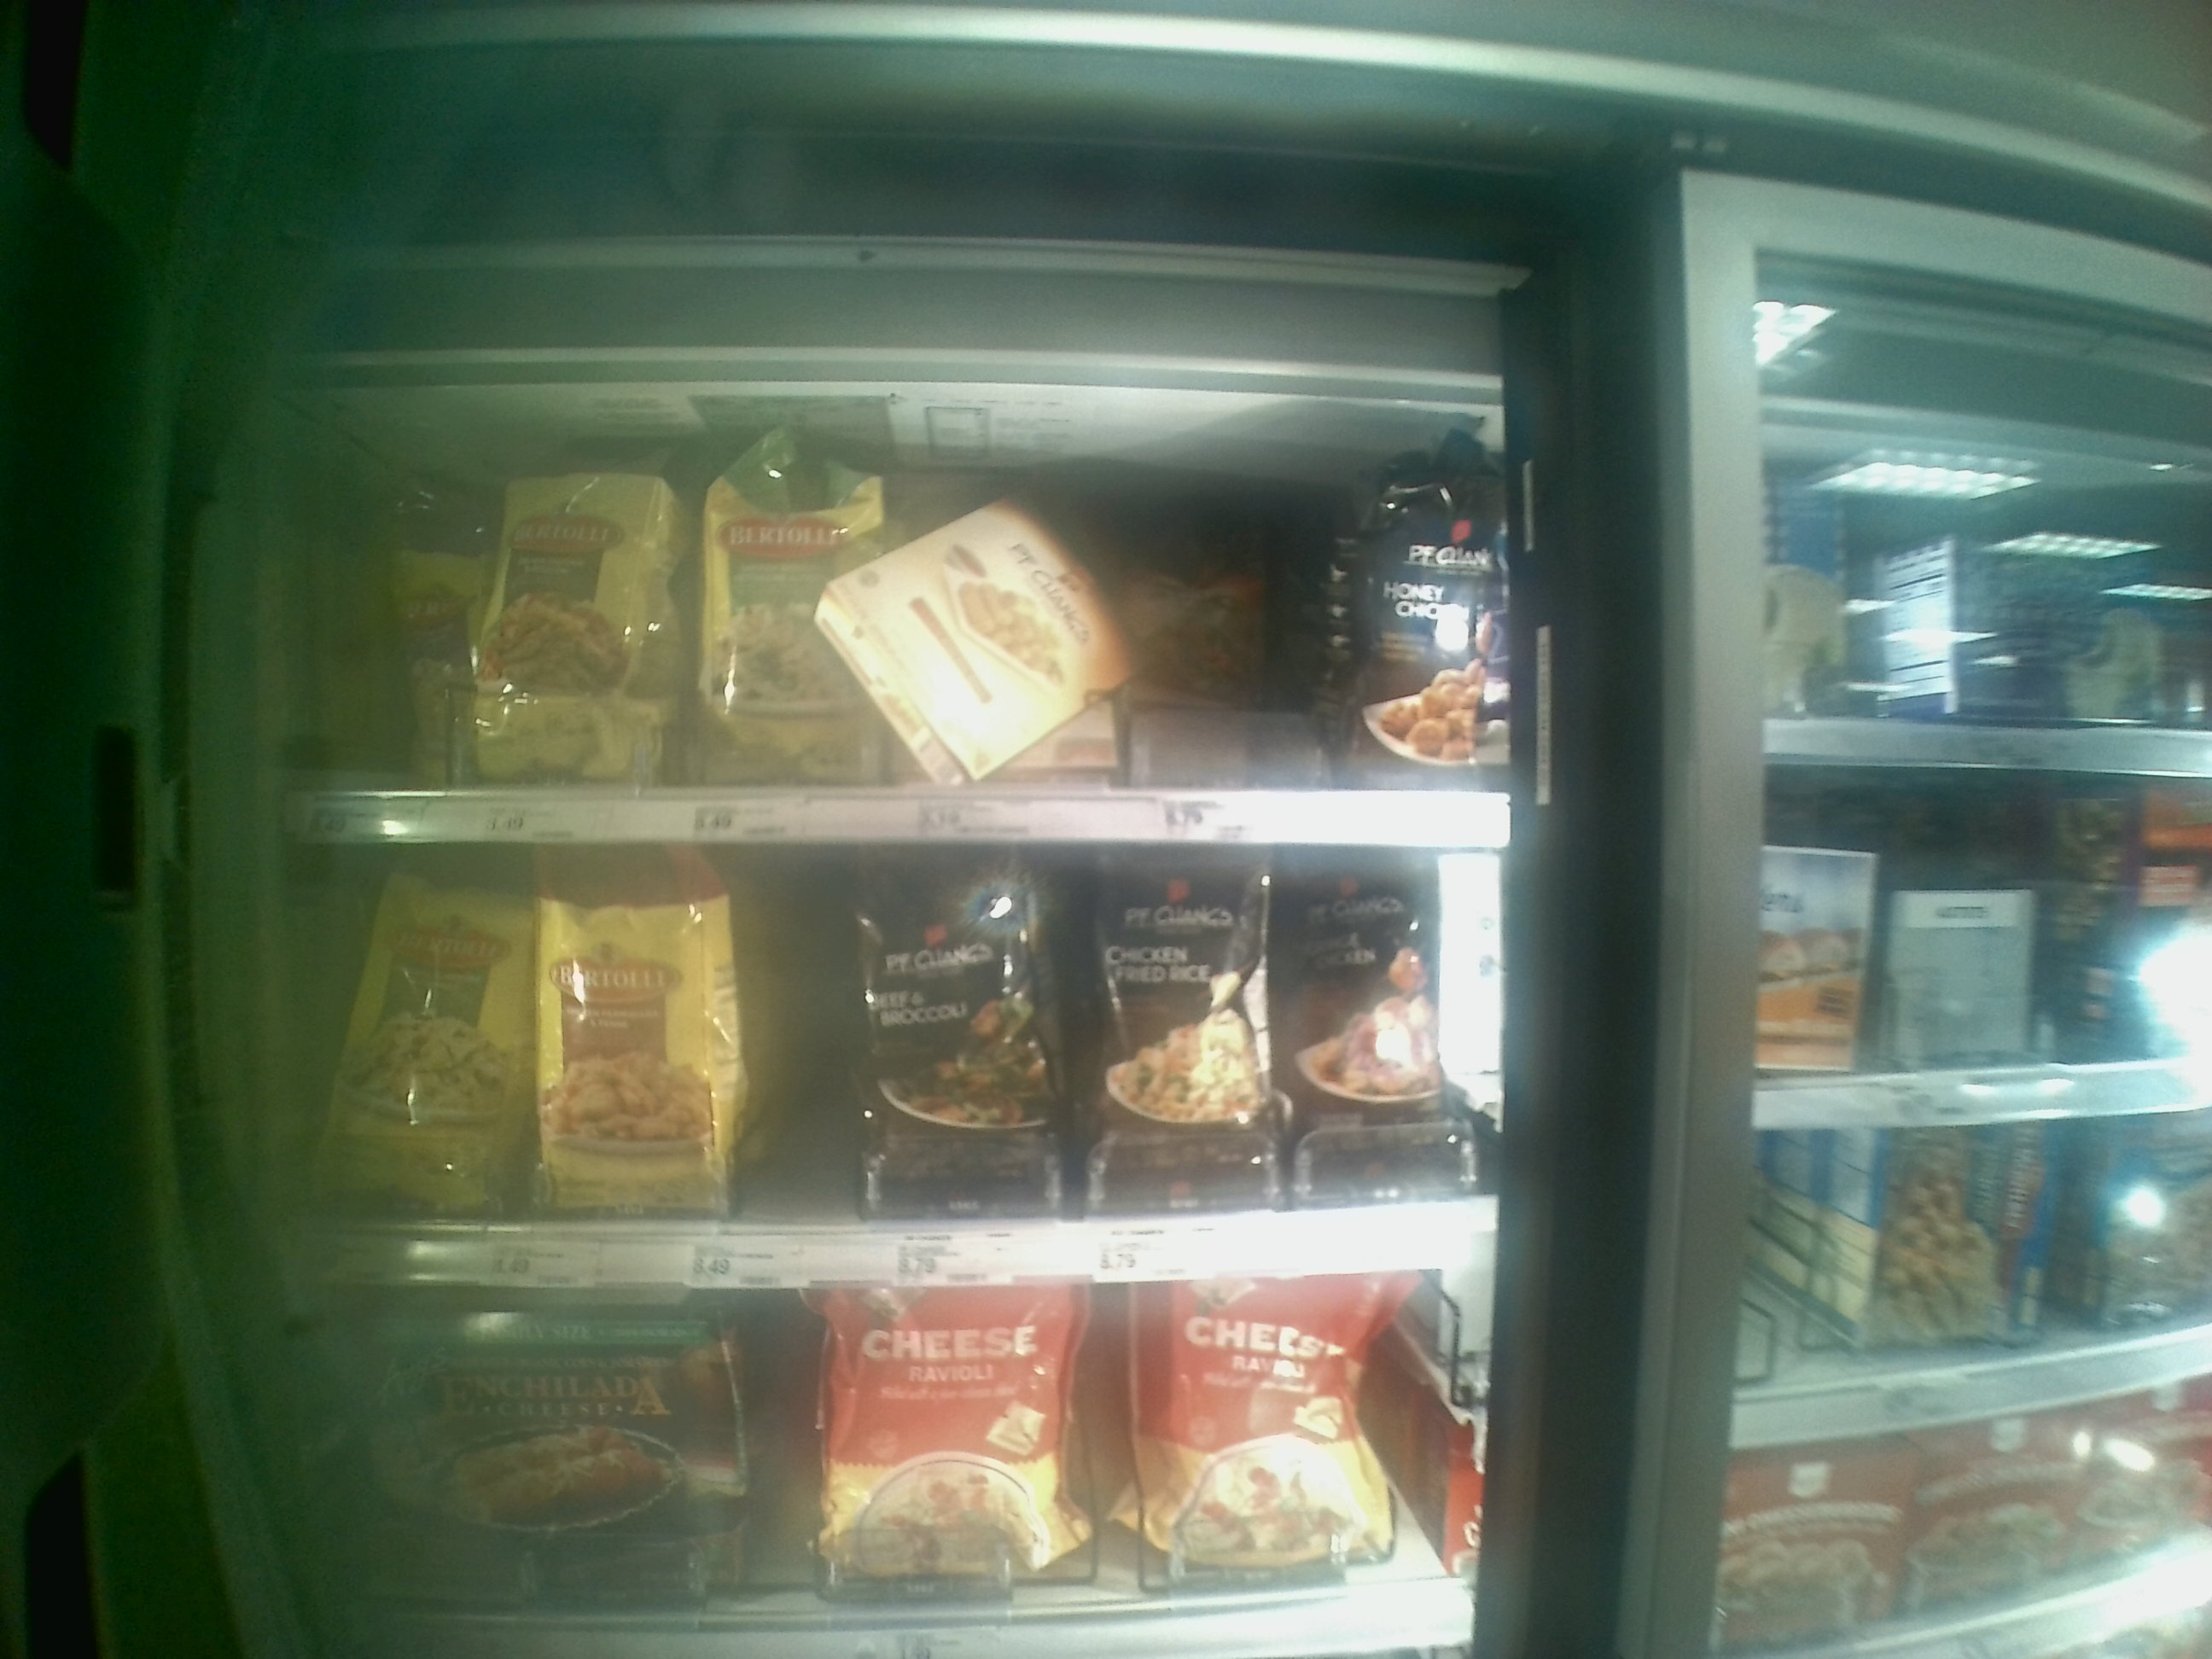shelf: (261, 249, 1524, 831), (279, 836, 1505, 1256), (279, 1251, 1533, 1657)
